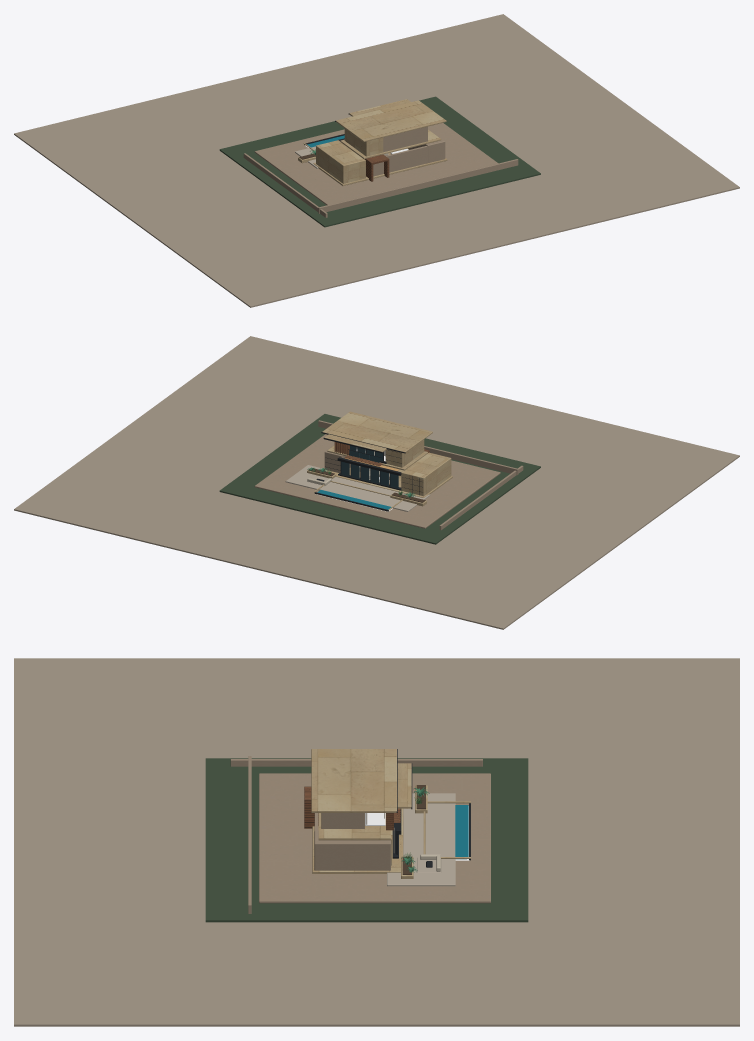
The model's file is villa-v0.2-hero.glb.
3 renders of one model, top to bottom at view 1: azimuth 30°, elevation 25°; view 2: azimuth 150°, elevation 25°; view 3: azimuth 270°, elevation 25°, orthographic. The views are drawn at different scales.
Parts seen in each view (by area): view 1: context_ground_r4, garden_field, site_plinth, roof_plane, ground_left_stone_core, rear_boundary_r4, ground_back_wall, upper_private_volume, upper_stone_spine, left_boundary_r4; view 2: context_ground_r4, garden_field, site_plinth, roof_plane, terrace_deck, ground_left_stone_core, rear_boundary_r4, upper_stone_spine, left_boundary_r4; view 3: context_ground_r4, garden_field, site_plinth, roof_plane, terrace_deck, ground_right_private_core, left_boundary_r4, upper_floor_slab, ground_floor_slab, pool_water, upper_private_volume, signature_cantilever (+1 smaller).
Part boxes in pixels (x1,y1,x2,y2): context_ground_r4: [14, 14, 739, 307]; garden_field: [219, 96, 540, 227]; site_plinth: [254, 123, 498, 205]; roof_plane: [336, 100, 446, 141]; ground_left_stone_core: [316, 140, 365, 183]; rear_boundary_r4: [318, 159, 518, 213]; ground_back_wall: [373, 146, 427, 176]; upper_private_volume: [383, 126, 427, 151]; upper_stone_spine: [344, 128, 383, 156]; left_boundary_r4: [243, 153, 327, 217]; context_ground_r4: [14, 336, 739, 629]; garden_field: [219, 414, 540, 544]; site_plinth: [254, 434, 500, 528]; roof_plane: [322, 411, 432, 452]; terrace_deck: [285, 465, 430, 511]; ground_left_stone_core: [401, 452, 451, 496]; rear_boundary_r4: [318, 420, 518, 475]; upper_stone_spine: [385, 439, 424, 467]; left_boundary_r4: [439, 465, 523, 530]; context_ground_r4: [14, 658, 739, 1026]; garden_field: [205, 758, 528, 922]; site_plinth: [259, 773, 490, 903]; roof_plane: [311, 749, 396, 812]; terrace_deck: [387, 793, 455, 886]; ground_right_private_core: [314, 830, 390, 870]; left_boundary_r4: [230, 759, 482, 766]; upper_floor_slab: [318, 813, 390, 840]; ground_floor_slab: [312, 808, 403, 873]; pool_water: [455, 805, 468, 856]; upper_private_volume: [321, 813, 364, 828]; signature_cantilever: [397, 763, 411, 808].
Size of the model in its own units: 86 by 7.53 by 72.
22 materials, 4 textured.
